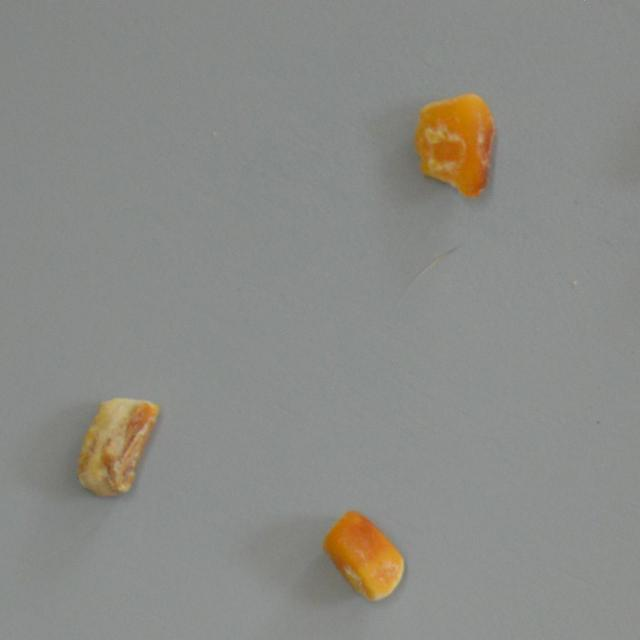dañado: (412, 92, 496, 199), (321, 507, 408, 602), (75, 397, 158, 496)
